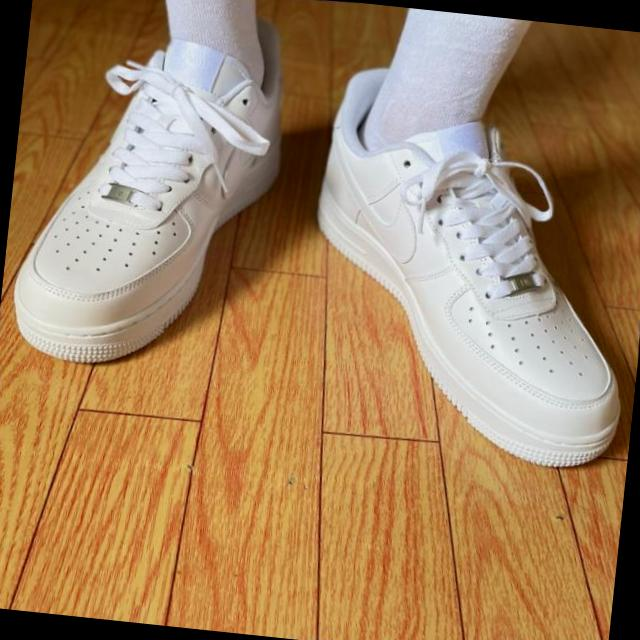nike_original_airforce: (284, 47, 640, 483), (0, 0, 321, 389)
